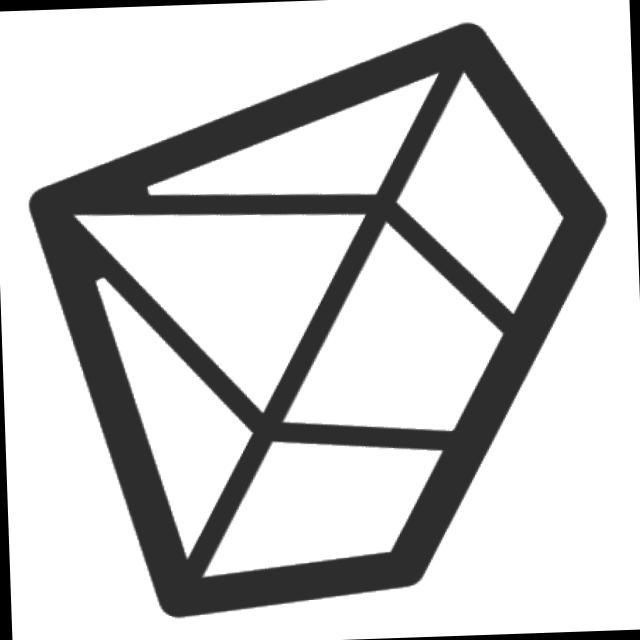diamond: (9, 3, 634, 636)
